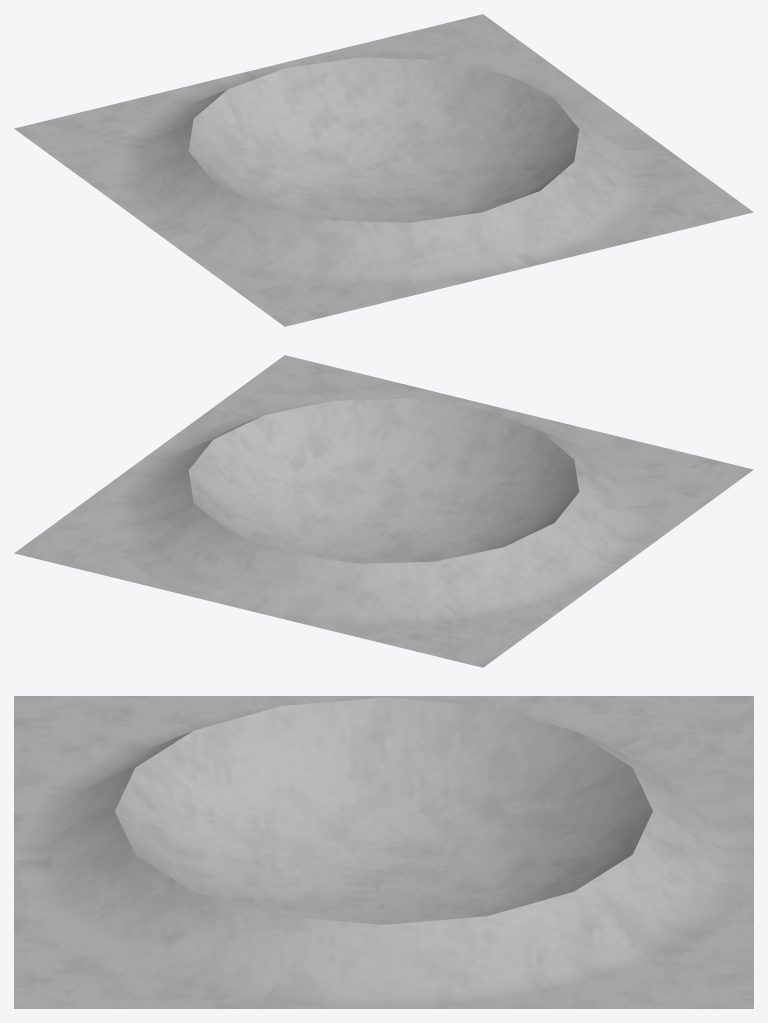
Rendered from m_Tile_Crater_Large.fbx.
3 views of the same model, one above another, from view 1: azimuth 30°, elevation 25°; view 2: azimuth 150°, elevation 25°; view 3: azimuth 270°, elevation 25° (orthographic). The views are drawn at different scales.
Visible parts, largest first — view 1: Tile_Crater_Large; view 2: Tile_Crater_Large; view 3: Tile_Crater_Large.
Part boxes in pixels (x1=…): Tile_Crater_Large: x1=14, y1=14, x2=753, y2=326; Tile_Crater_Large: x1=14, y1=355, x2=753, y2=667; Tile_Crater_Large: x1=14, y1=696, x2=753, y2=1008.
Bounding box in the file's own units: 100 × 11.46 × 100.
